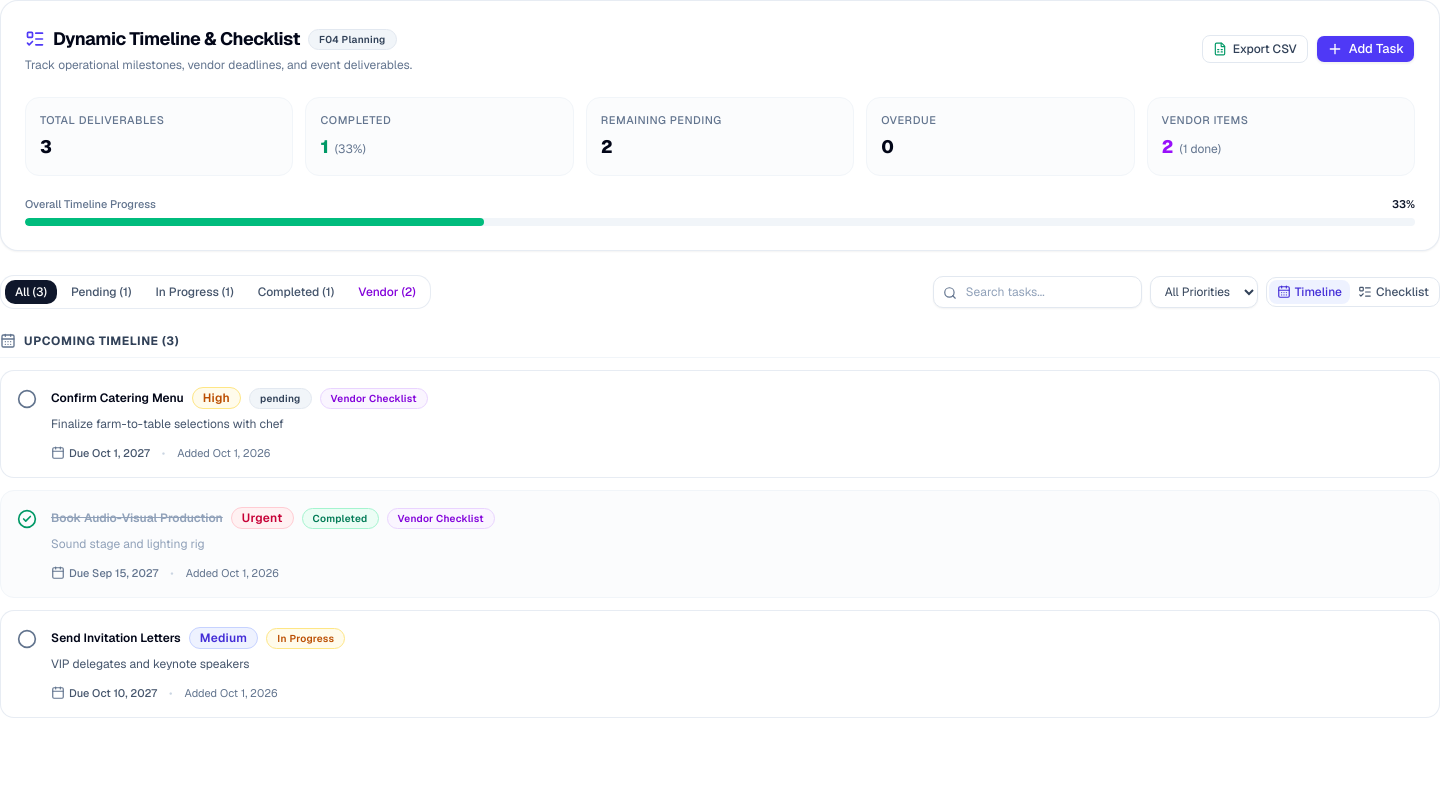
TimelineChecklistManager Component › opens add task dialog when + Add Task button is clicked
Click the button "Add Task": (1365, 49) top-left (1316, 35), bottom-right (1415, 63)
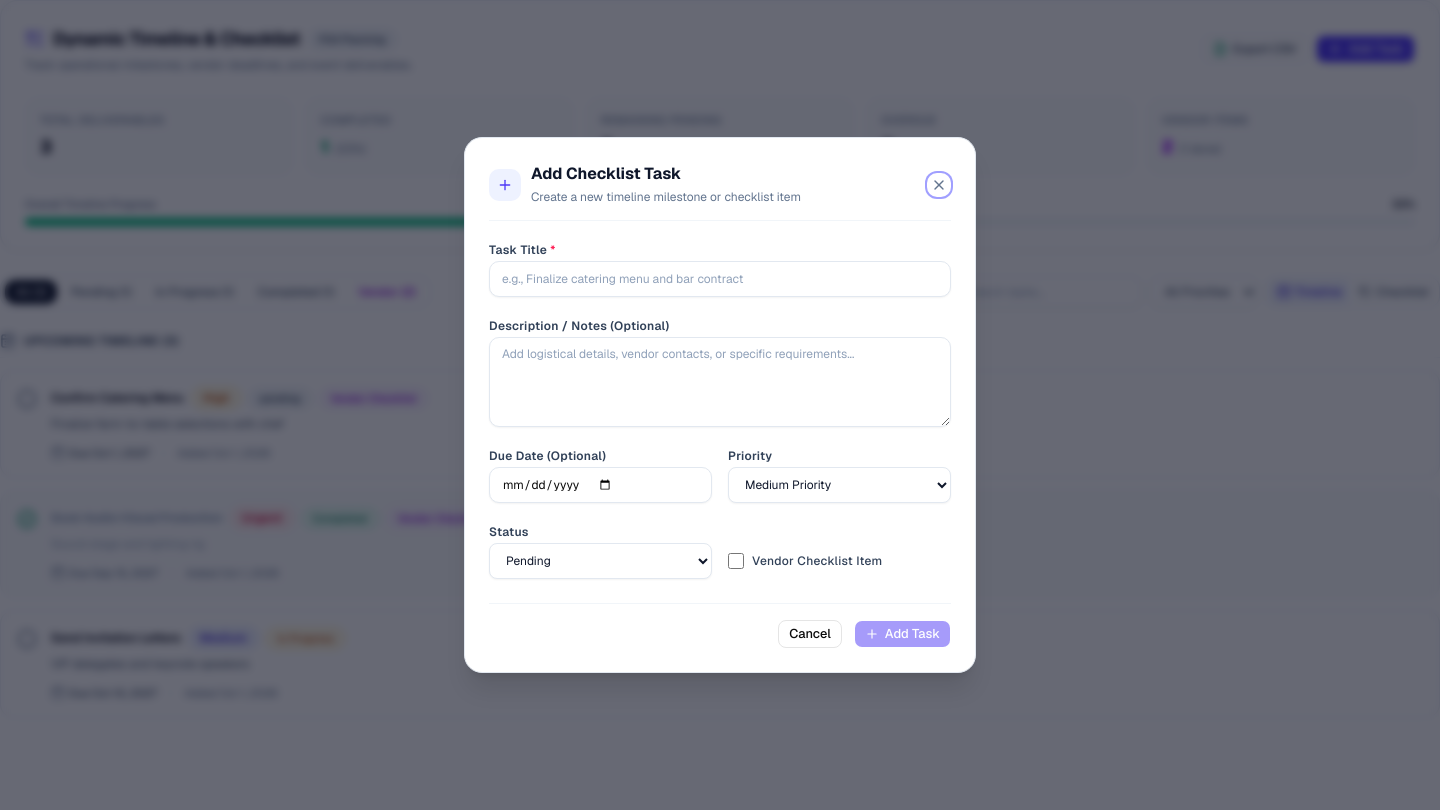
Check: the dialog is shown, box top-left (464, 137), bottom-right (976, 673)
